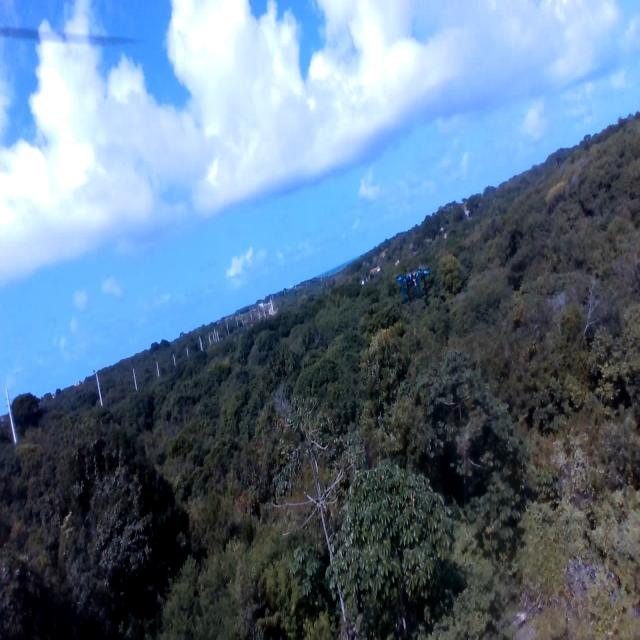-uav-: (390, 254, 436, 311)
